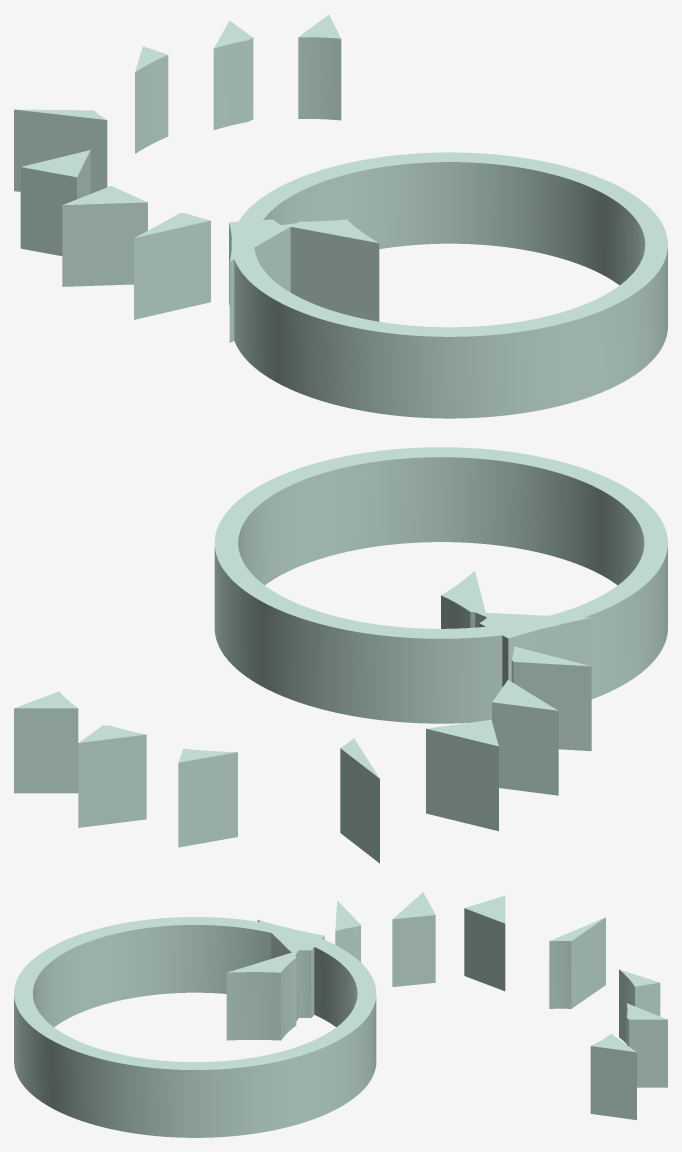
3 renders of one model, top to bottom at view 1: azimuth 30°, elevation 25°; view 2: azimuth 150°, elevation 25°; view 3: azimuth 270°, elevation 25°, orthographic. The views are drawn at different scales.
Parts seen in each view (by area): view 1: Renderer Node; view 2: Renderer Node; view 3: Renderer Node.
Boxes of the visible parts, left/top/right/bottom form: Renderer Node: left=14, top=15, right=667, bottom=418; Renderer Node: left=14, top=447, right=667, bottom=863; Renderer Node: left=14, top=892, right=667, bottom=1137.
Bounding box in the file's own units: 1.28 × 0.2266 × 1.98.
